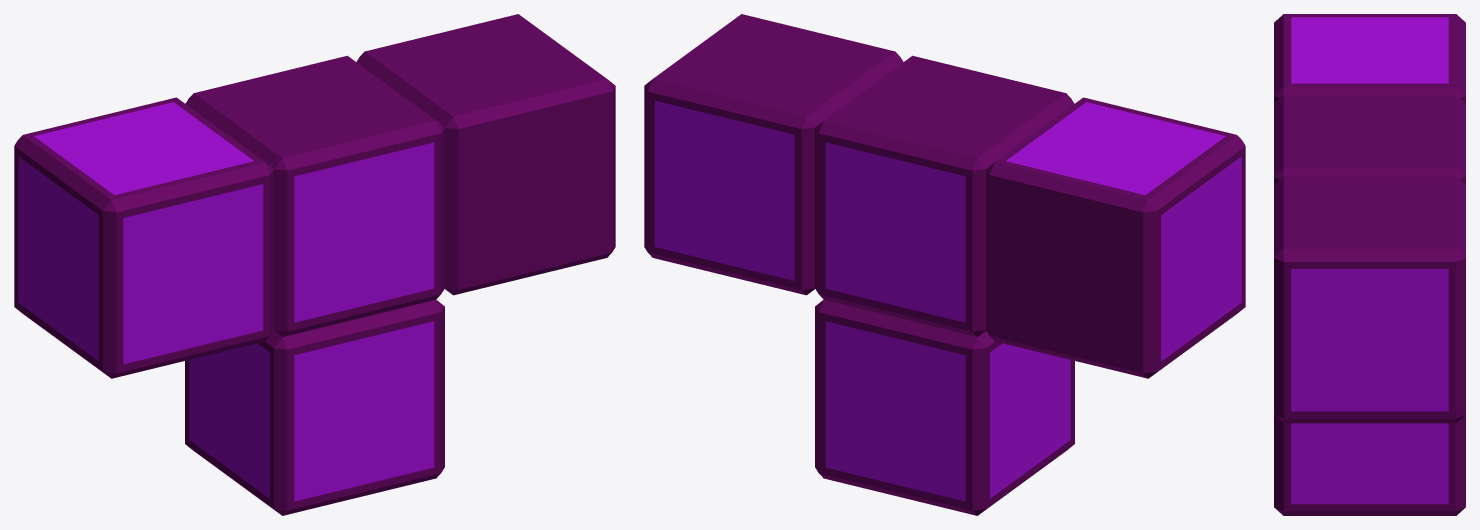
Rendered from fig4_color.obj.
3 views of the same model, side by side, from view 1: azimuth 30°, elevation 25°; view 2: azimuth 150°, elevation 25°; view 3: azimuth 270°, elevation 25° (orthographic). The views are drawn at different scales.
Parts seen in each view (by area): view 1: Cube.003, Cube.001, Cube, Cube.002; view 2: Cube.003, Cube.001, Cube, Cube.002; view 3: Cube.001, Cube.002, Cube, Cube.003.
Boxes of the visible parts, x1=… form: Cube.003: x1=14, y1=97, x2=273, y2=378; Cube.001: x1=356, y1=14, x2=615, y2=295; Cube: x1=185, y1=55, x2=444, y2=336; Cube.002: x1=185, y1=299, x2=444, y2=515; Cube.003: x1=986, y1=97, x2=1245, y2=378; Cube.001: x1=644, y1=14, x2=903, y2=295; Cube: x1=815, y1=55, x2=1074, y2=336; Cube.002: x1=815, y1=299, x2=1074, y2=515; Cube.001: x1=1274, y1=176, x2=1465, y2=423; Cube.002: x1=1274, y1=415, x2=1465, y2=515; Cube: x1=1274, y1=95, x2=1465, y2=184; Cube.003: x1=1274, y1=14, x2=1465, y2=103.
Size of the model in its own units: 6 by 4 by 2.
